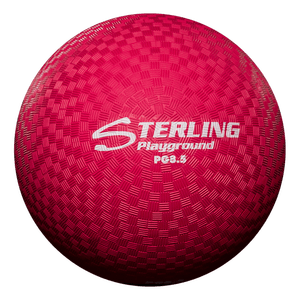red ball: (12, 13, 287, 287)
